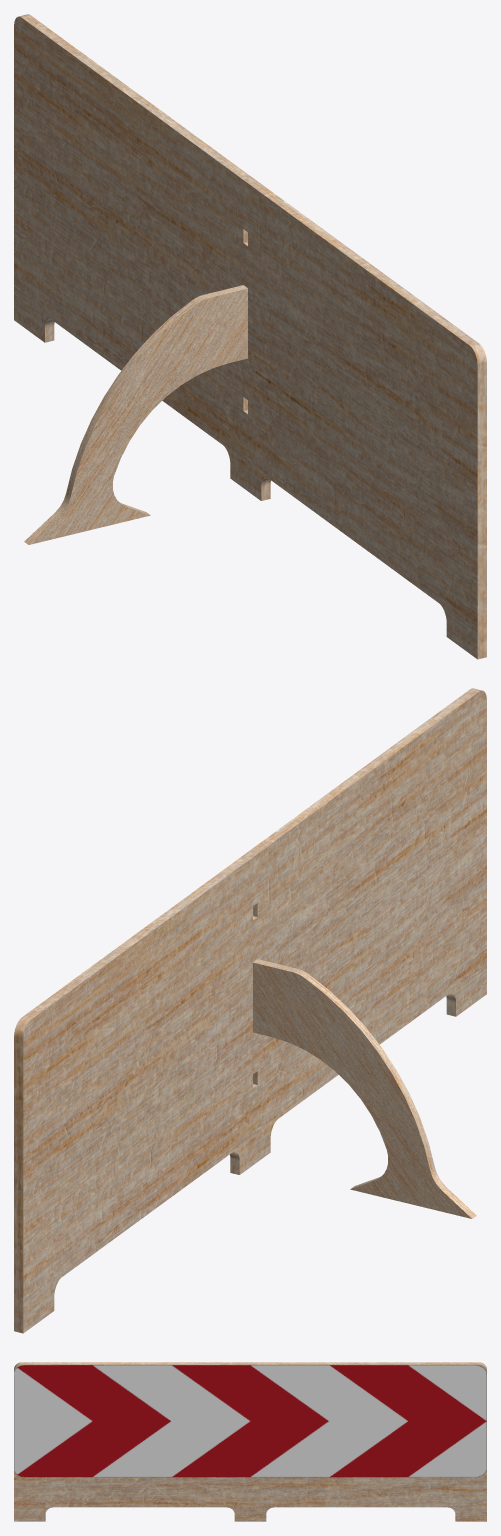
The model's file is Abbiegeschild_gross_rechts.dae.
3 renders of one model, top to bottom at view 1: azimuth 30°, elevation 25°; view 2: azimuth 150°, elevation 25°; view 3: azimuth 270°, elevation 25°, orthographic. The views are drawn at different scales.
Parts seen in each view (by area): view 1: Body3, Body1_001; view 2: Body3, Body1_001; view 3: Body3.
Part boxes in pixels (<box>): Body3: <box>14,14,486,659</box>; Body1_001: <box>24,285,247,544</box>; Body3: <box>14,688,486,1333</box>; Body1_001: <box>253,959,476,1218</box>; Body3: <box>14,1362,486,1521</box>.
Size of the model in its own units: 85.5 by 300 by 110.
Materials: 2 (2 with a texture image).
